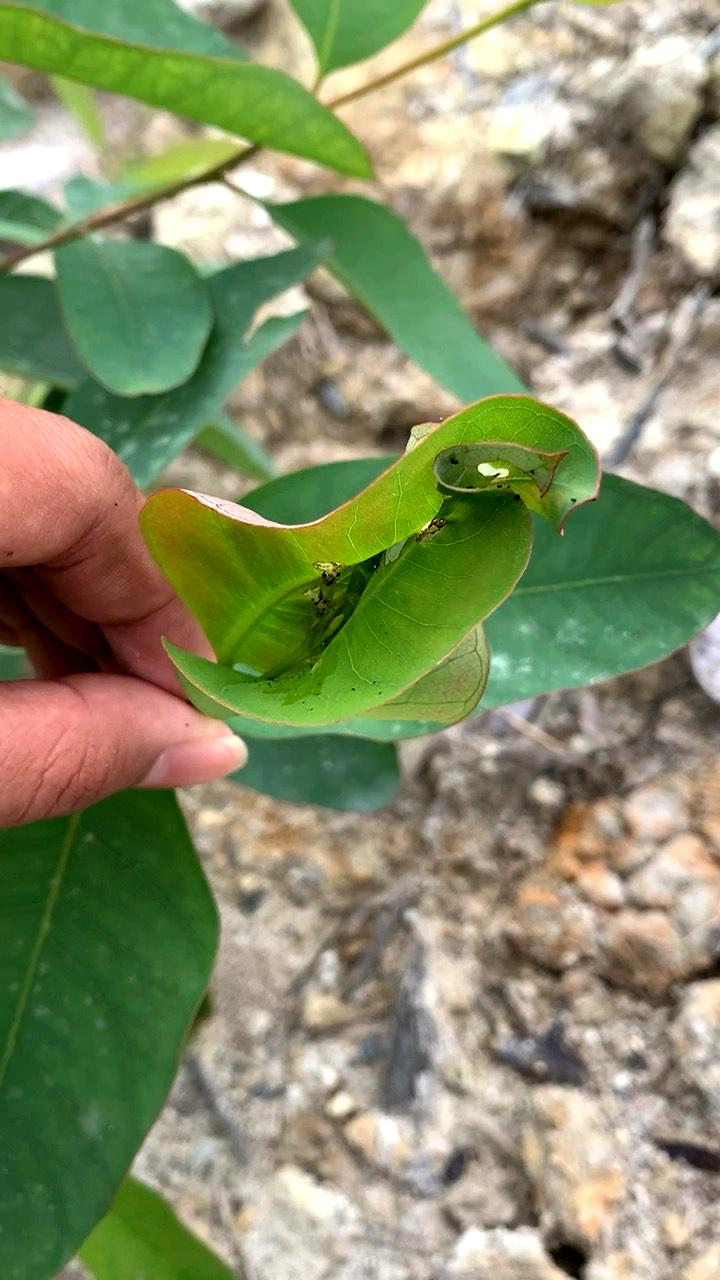Leaf Roller - Leaf: (103, 383, 643, 774)
